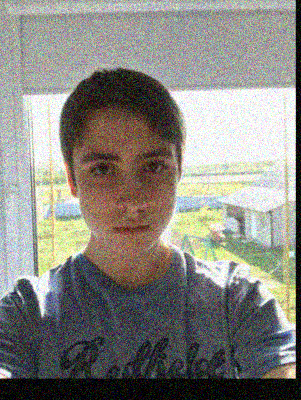without_mask: (75, 141, 178, 257)
